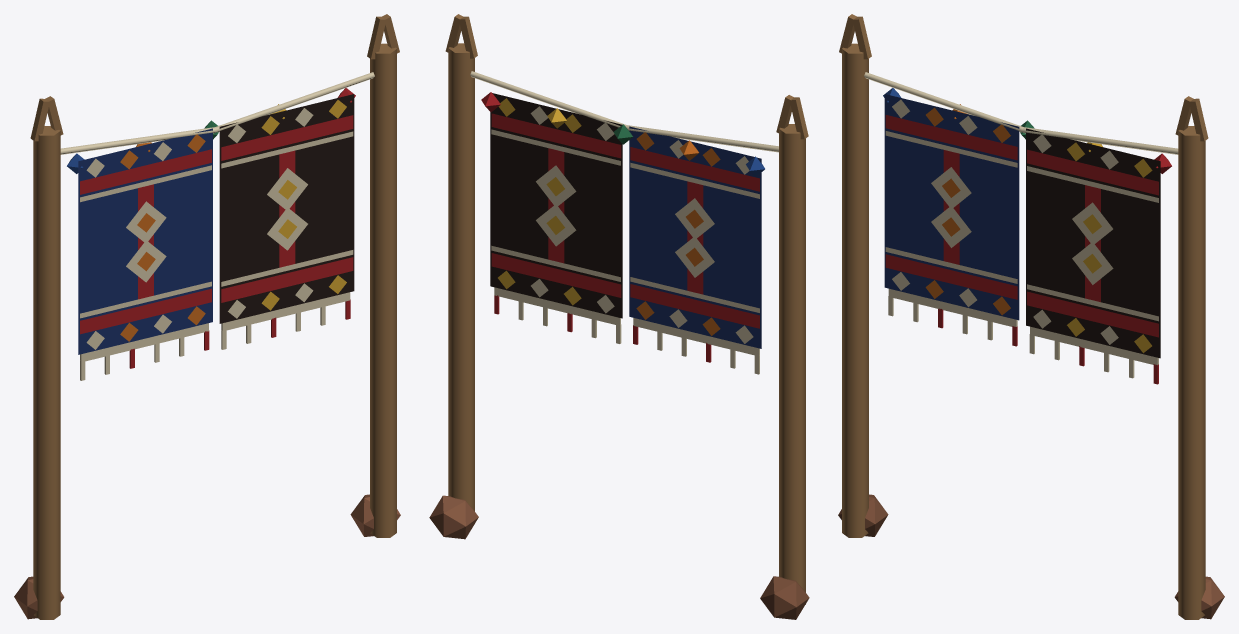
File: rug_stand.glb
The picture shows the model from 3 angles, left to right: view 1: azimuth 30°, elevation 25°; view 2: azimuth 150°, elevation 25°; view 3: azimuth 330°, elevation 25°; orthographic projection.
Parts seen in each view (by area): view 1: rug_stand; view 2: rug_stand; view 3: rug_stand.
Boxes of the visible parts, left/top/right/bottom form: rug_stand: left=14, top=14, right=400, bottom=619; rug_stand: left=429, top=14, right=809, bottom=619; rug_stand: left=838, top=14, right=1224, bottom=619.
Bounding box in the file's own units: 2.22 × 2.97 × 0.2606.
